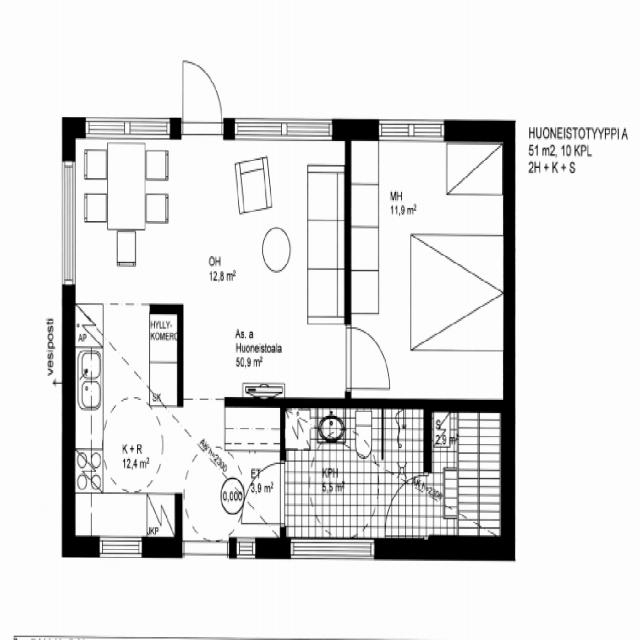door: (174, 54, 228, 142), (338, 317, 394, 395), (243, 456, 288, 531)
window: (80, 106, 172, 149), (229, 110, 335, 147), (54, 153, 80, 297), (368, 112, 452, 150), (286, 535, 378, 558), (93, 534, 149, 561), (179, 536, 233, 560), (233, 535, 259, 560)
zone: (85, 137, 358, 395), (342, 127, 509, 405), (70, 319, 179, 549), (284, 407, 422, 546), (430, 407, 504, 544)
